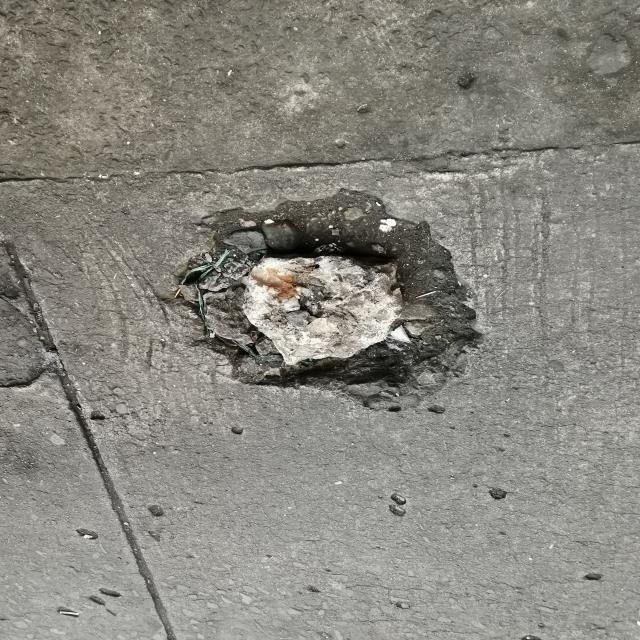pothole: (55, 106, 632, 496)
